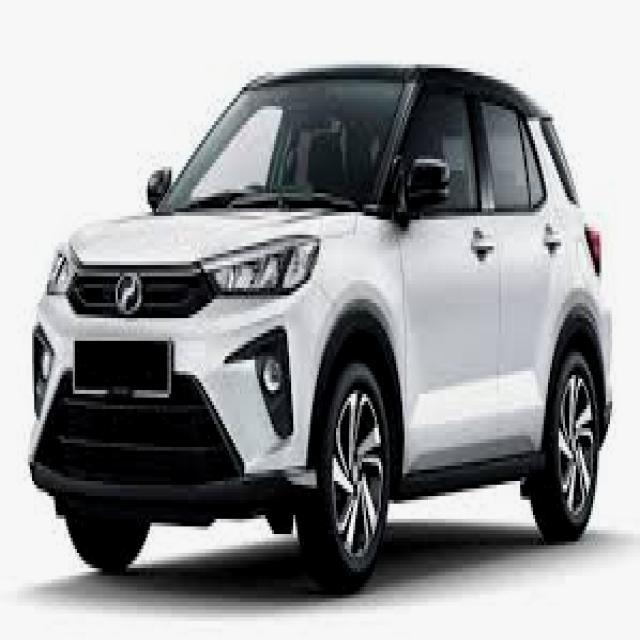PeroduaAtiva: (26, 62, 614, 595)
